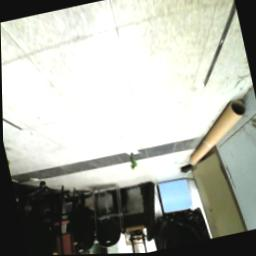herb: (127, 153, 138, 173)
